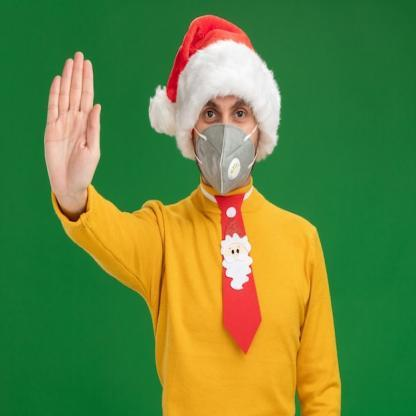stop: (38, 47, 106, 216)
